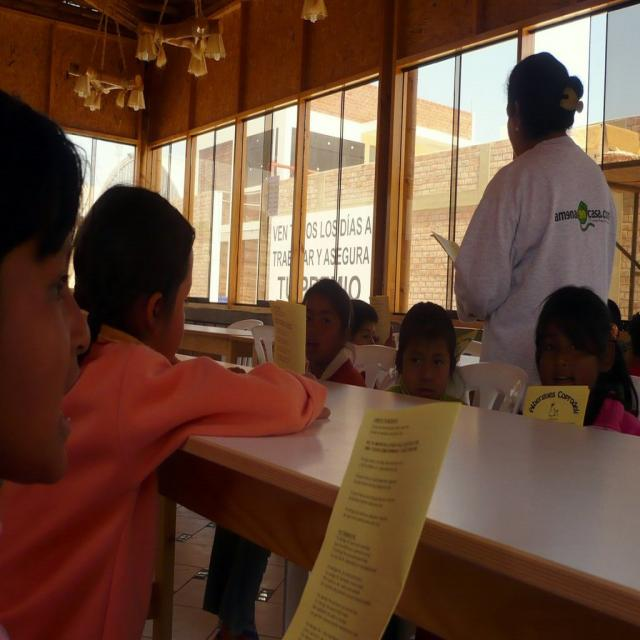chair: (457, 362, 528, 414)
desk: (156, 356, 640, 639)
person: (5, 183, 326, 639), (452, 53, 618, 384), (1, 86, 90, 640), (531, 285, 640, 435), (376, 302, 470, 406), (300, 278, 366, 388), (348, 298, 380, 345)
